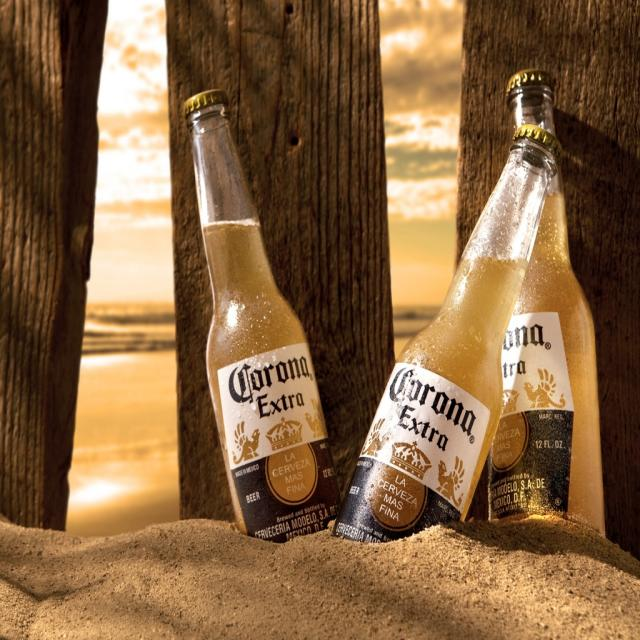corona: (333, 363, 492, 545), (218, 342, 343, 544), (490, 312, 576, 521)
